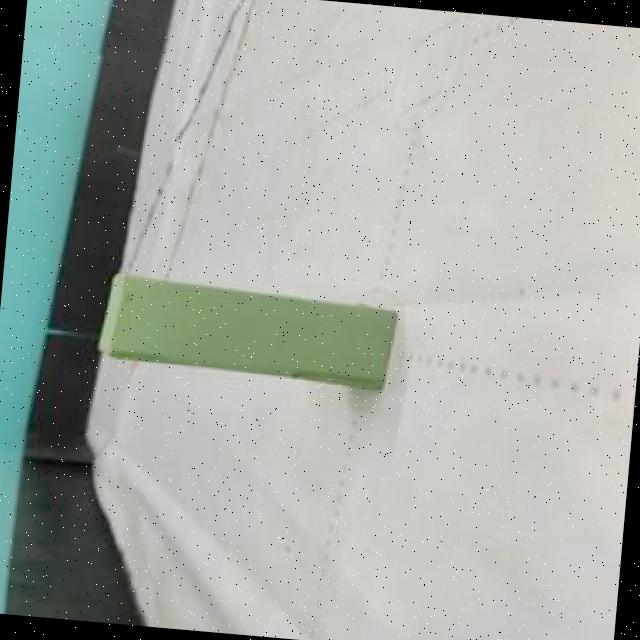greenbox: (92, 266, 403, 392)
